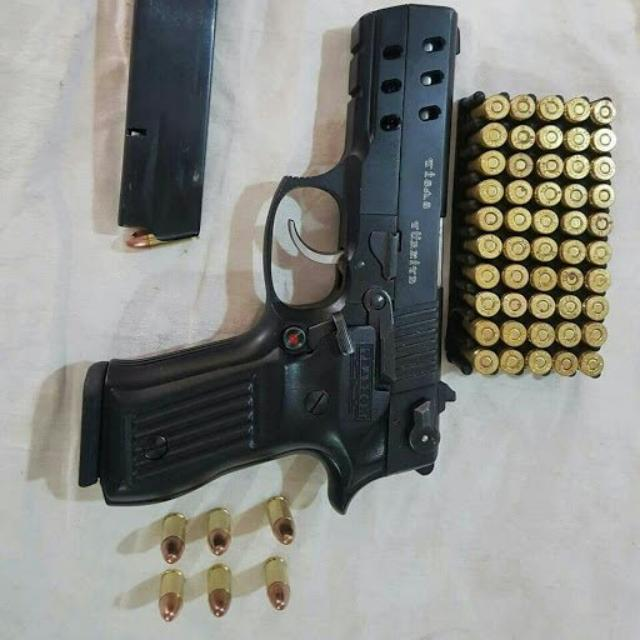handgun: (74, 0, 462, 520)
